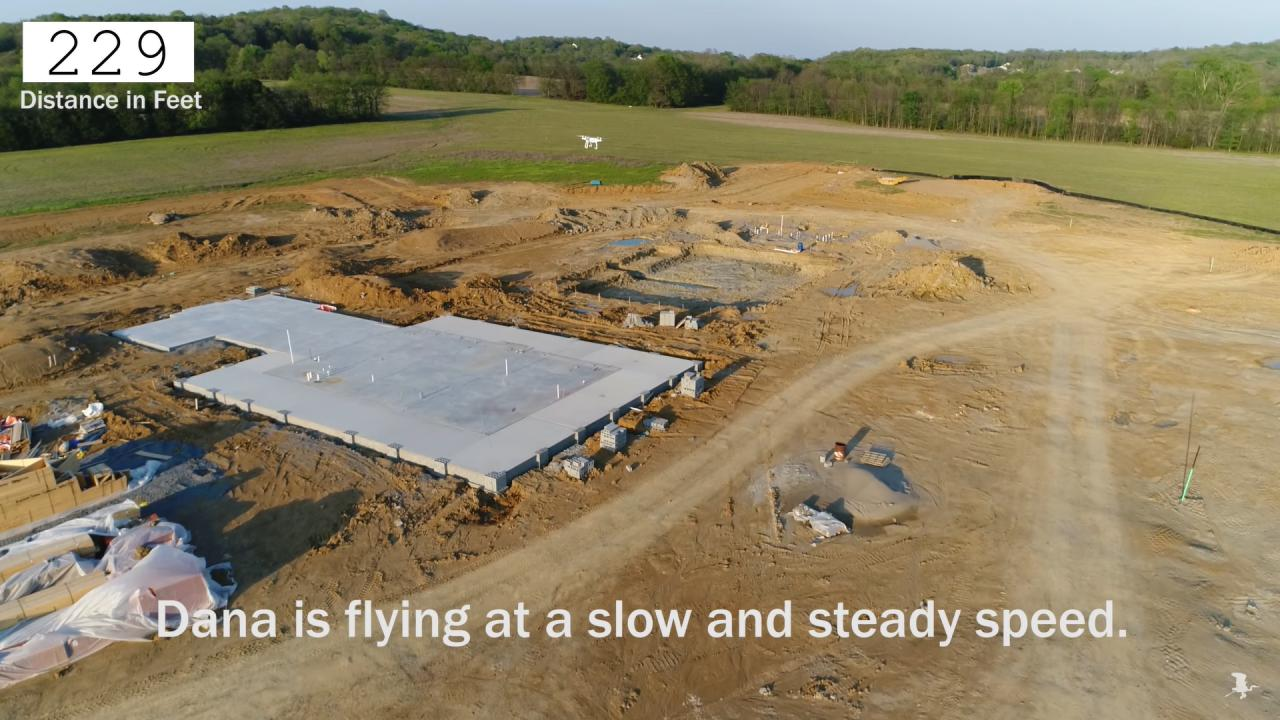Drone: (570, 127, 610, 157)
